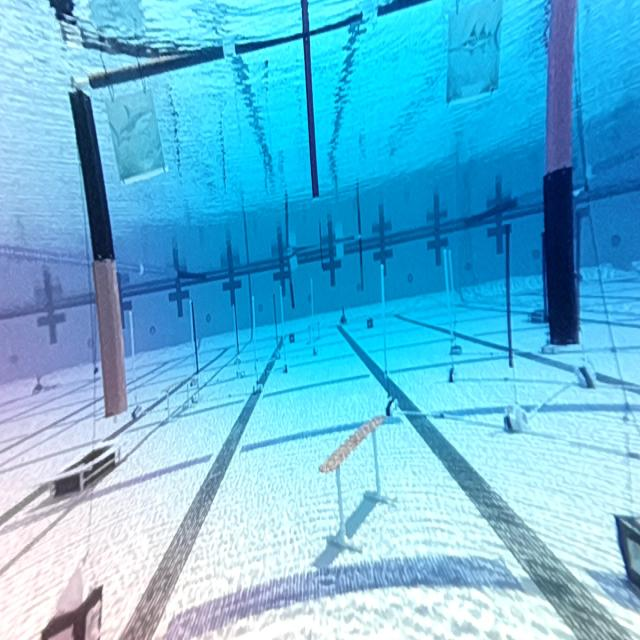pointed_nose: (448, 9, 503, 94)
round_nose: (110, 94, 161, 171)
